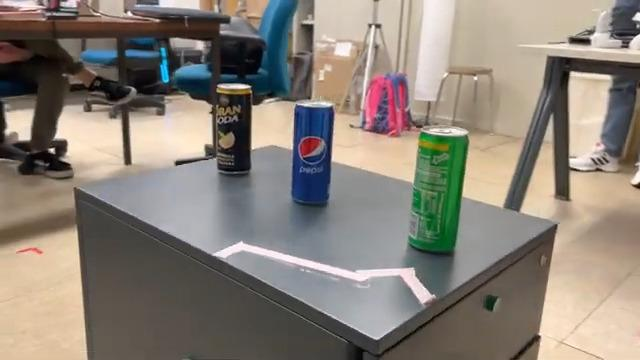OranSoda: (210, 78, 254, 178)
Pepsi: (287, 97, 337, 211)
Sprite: (402, 122, 473, 258)
